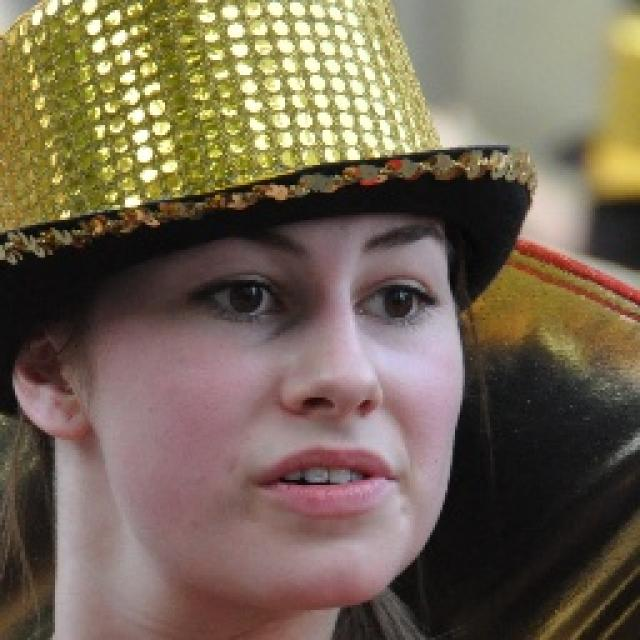earlobe: (12, 317, 94, 443)
